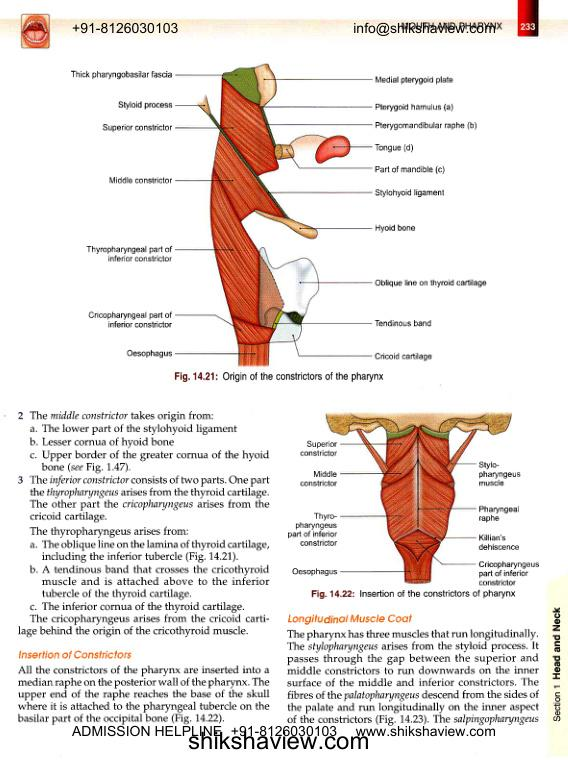caption: (173, 370, 385, 383), (310, 588, 517, 601)
image: (61, 55, 503, 368), (282, 406, 546, 587)
list: (16, 408, 272, 613)
sub-section-heading: (287, 612, 413, 626), (17, 648, 133, 661)
text: (286, 629, 541, 726), (17, 664, 271, 725), (16, 614, 271, 638)
